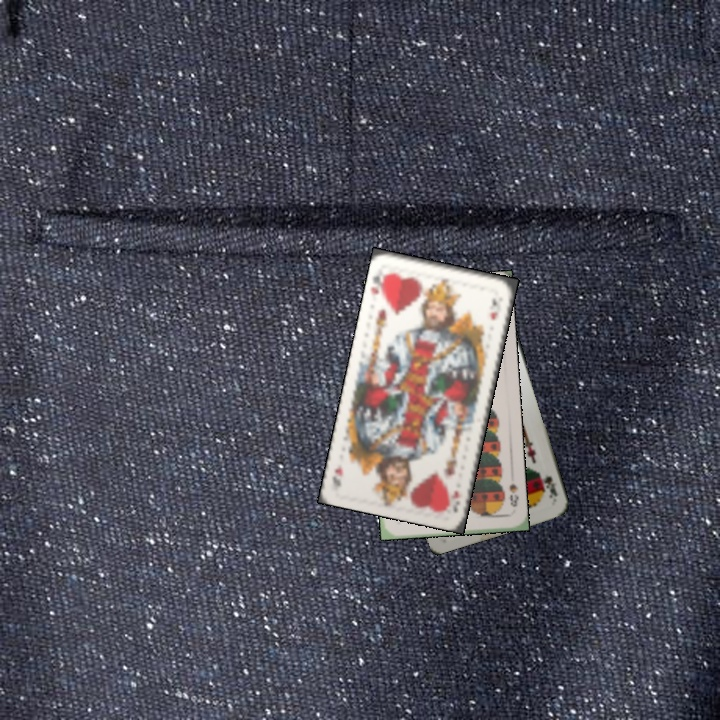HK: (367, 269, 391, 301), (447, 487, 462, 516)
S8: (506, 479, 521, 509)
SK: (535, 468, 560, 501)
